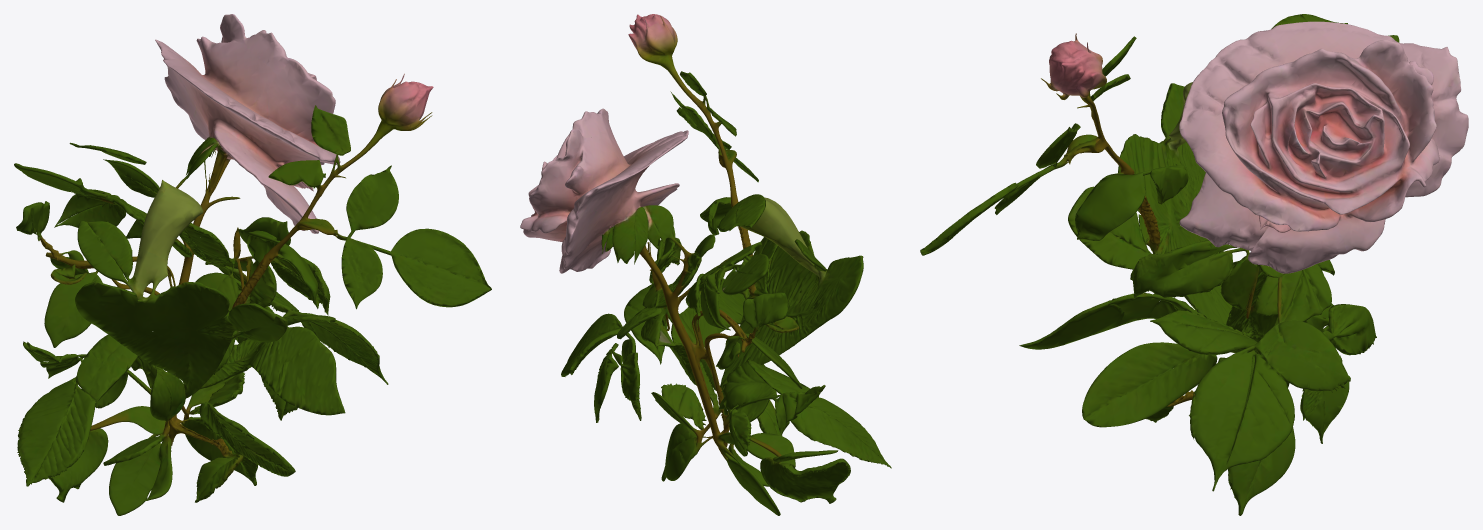
File: mia-pink-rose.glb
The picture shows the model from 3 angles, left to right: view 1: azimuth 30°, elevation 25°; view 2: azimuth 150°, elevation 25°; view 3: azimuth 270°, elevation 25°; orthographic projection. The views are drawn at different scales.
Parts seen in each view (by area): view 1: tripo_node_4b2b6083-3fdc-4f30-977c-3536577c0a48; view 2: tripo_node_4b2b6083-3fdc-4f30-977c-3536577c0a48; view 3: tripo_node_4b2b6083-3fdc-4f30-977c-3536577c0a48.
Part boxes in pixels (<box>): tripo_node_4b2b6083-3fdc-4f30-977c-3536577c0a48: <box>14,14,491,515</box>; tripo_node_4b2b6083-3fdc-4f30-977c-3536577c0a48: <box>520,14,891,515</box>; tripo_node_4b2b6083-3fdc-4f30-977c-3536577c0a48: <box>920,14,1468,515</box>.
Size of the model in its own units: 0.8537 by 0.9986 by 0.9424.
1 material, 1 textured.
